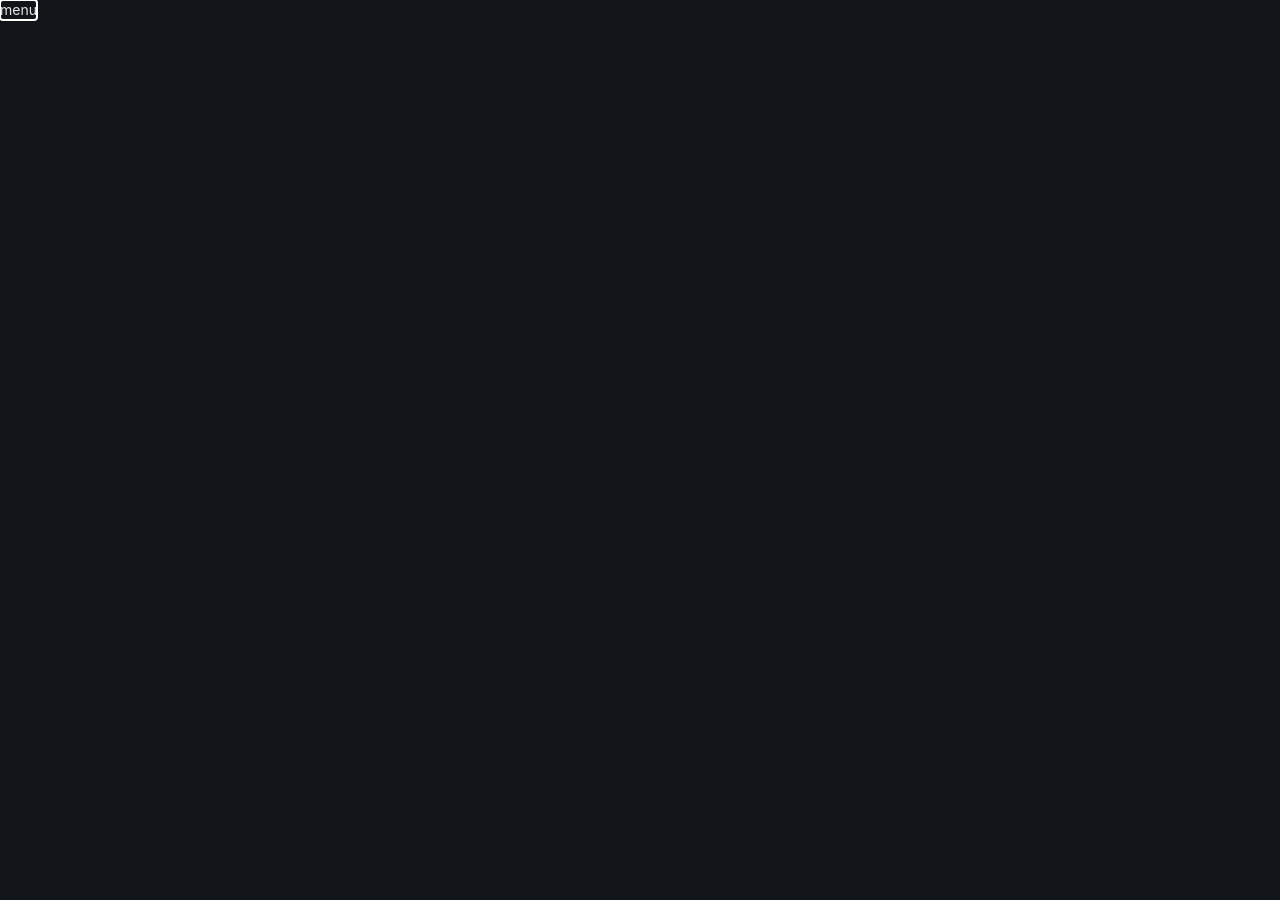
Scenario: nova atividade… opens the Start dialog in the source's workspace, not the copy dialog (#587, 6a)
Press Enter
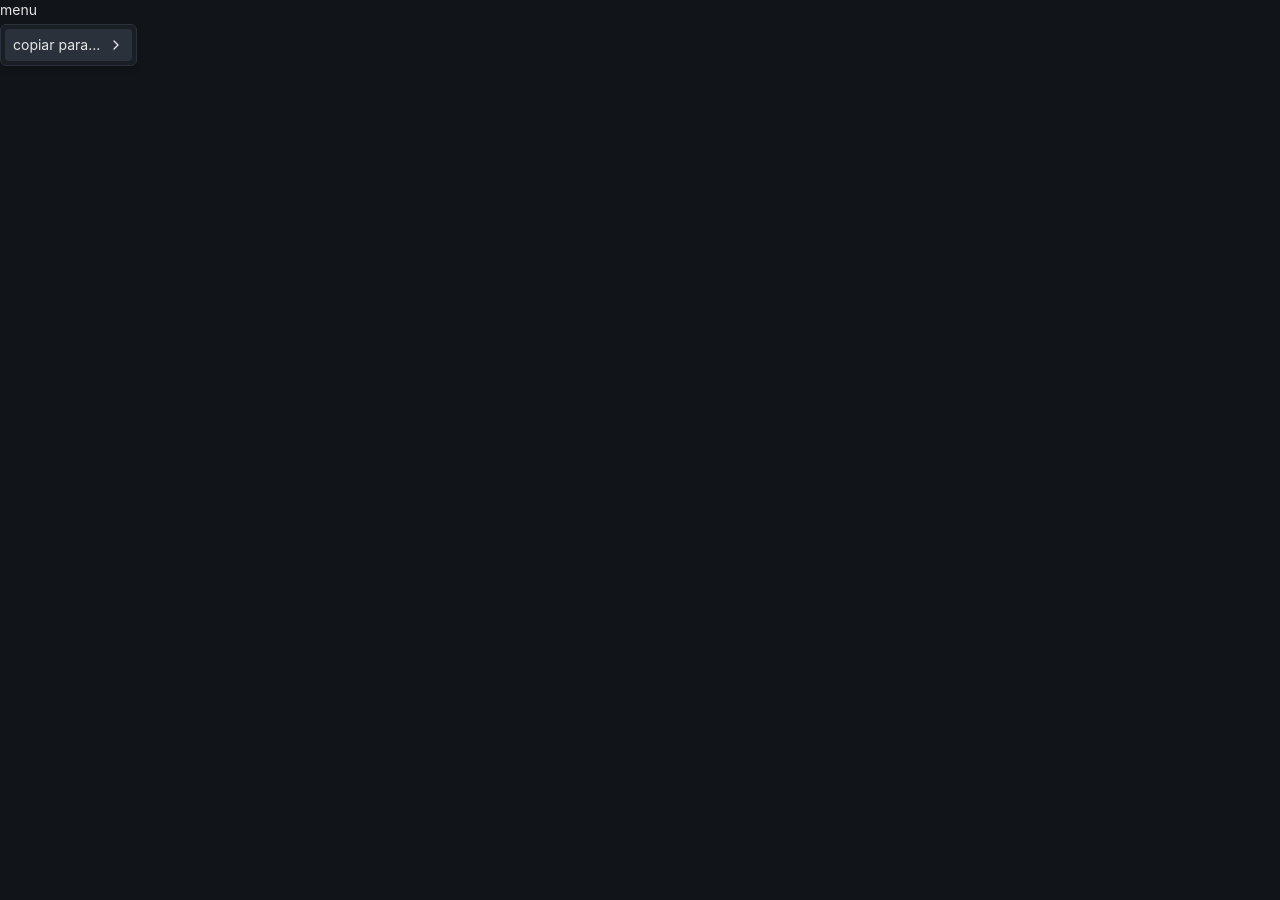
Press Arrowright
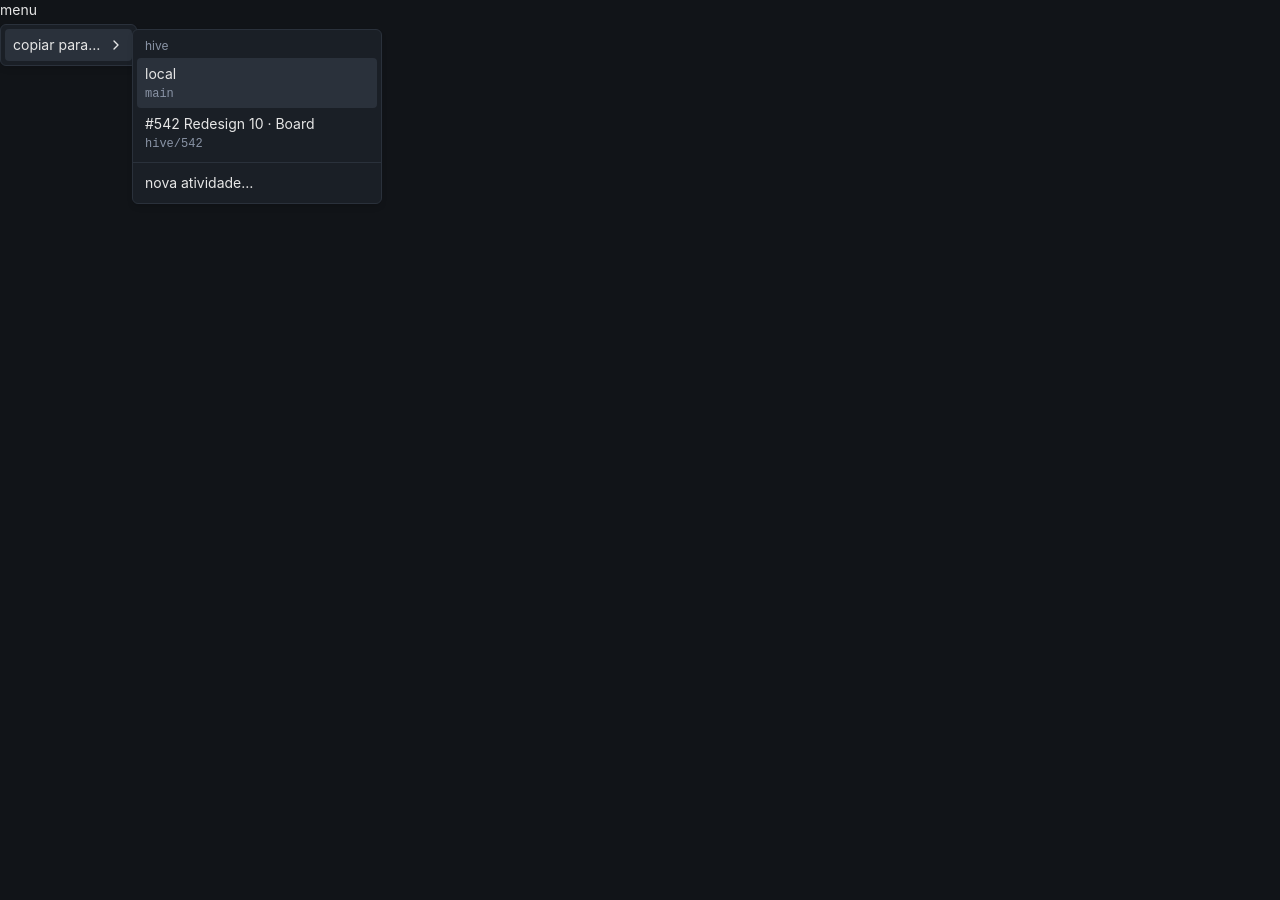
Click the menu item "nova atividade…". click: (199, 182)
box: [145,174,253,191]
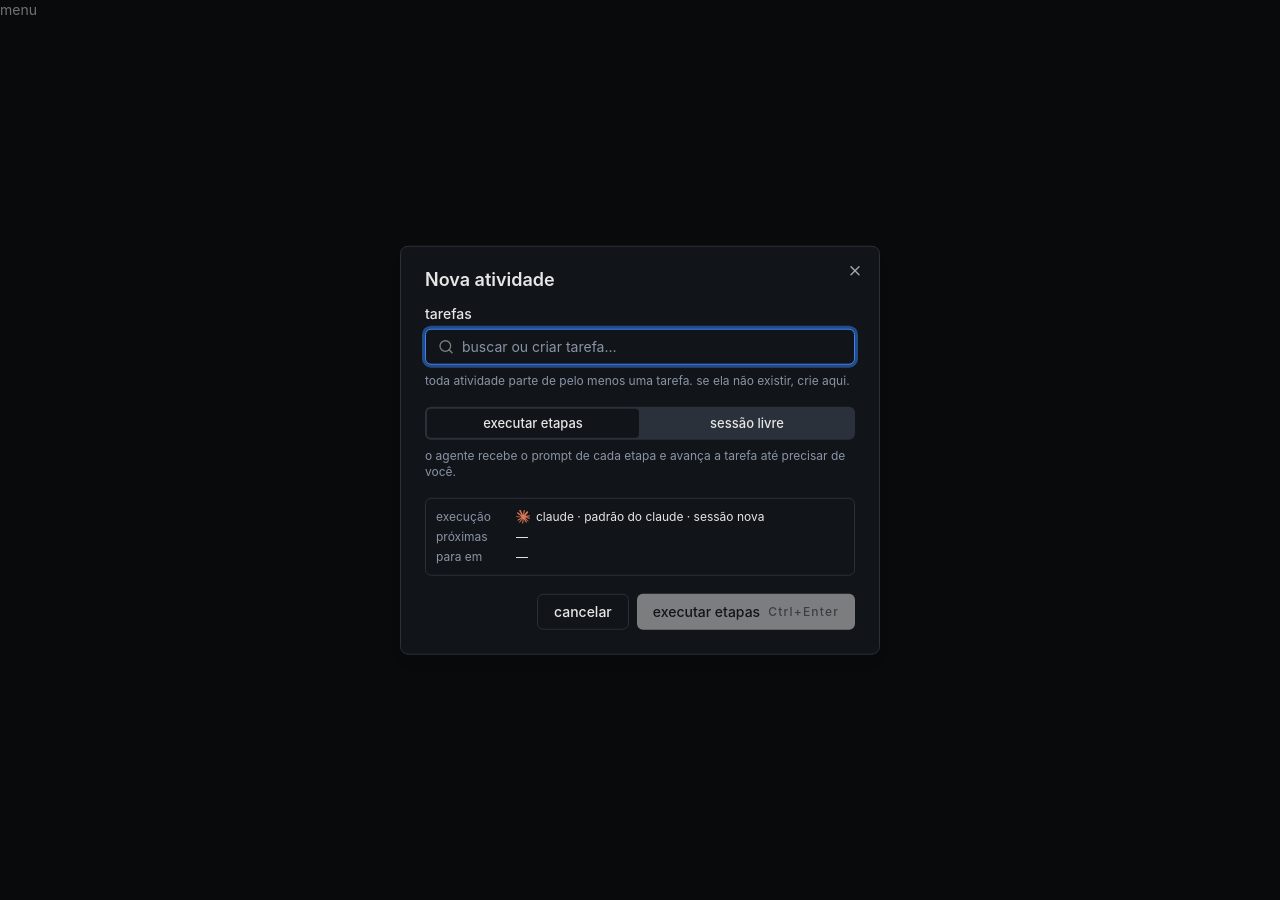
Now the dialog "Nova atividade" is shown, box [400,246,880,654]
